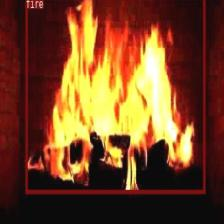fire: (25, 0, 204, 192)
